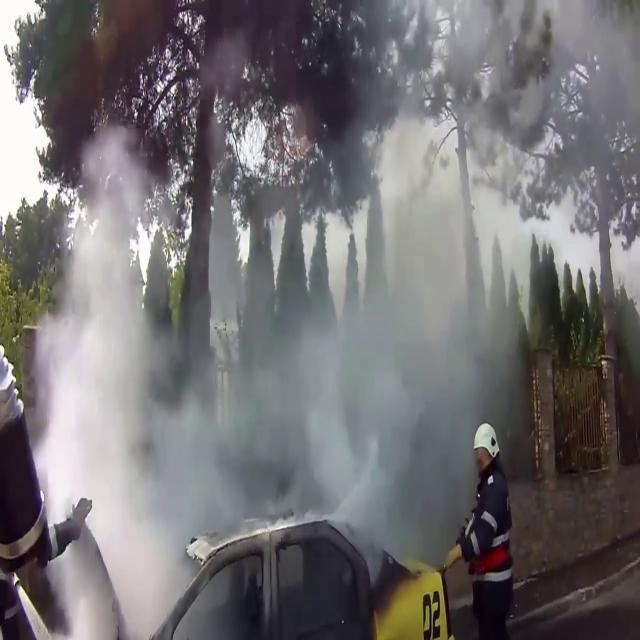Smoke: (22, 12, 554, 611)
